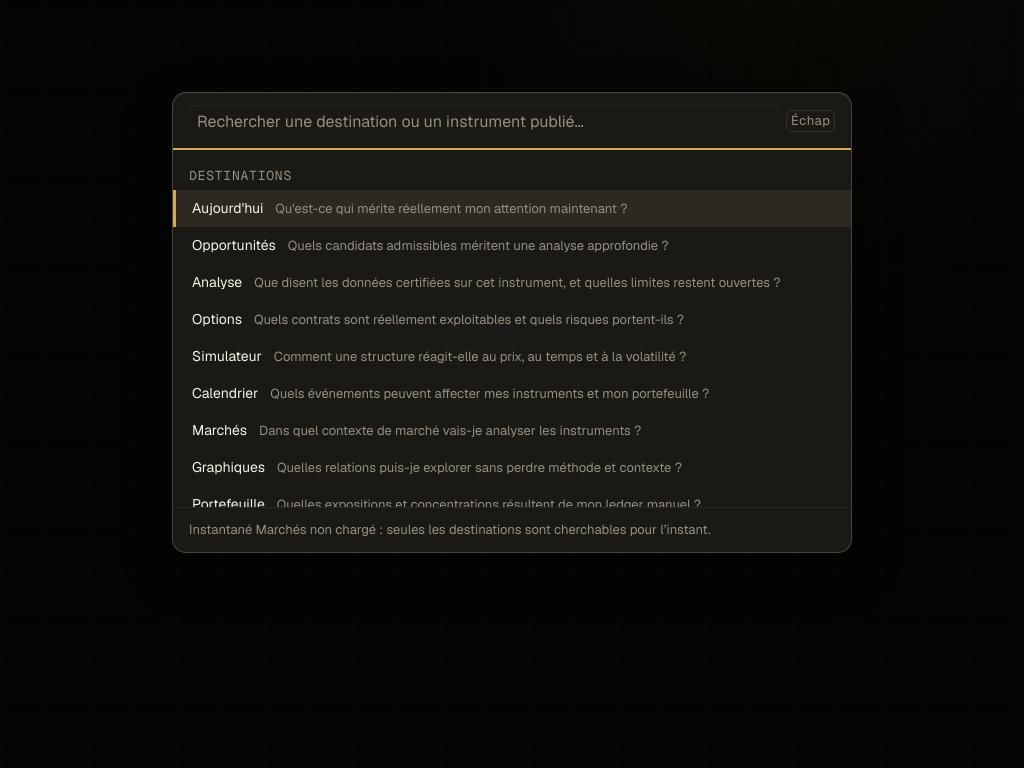
CommandPalette — recherche globale et navigation › DISTINGUE « aucun résultat » de « instantané non chargé »
The image size is (1024, 768).
Expected: the text "Instantané Marchés non chargé" is shown, [189, 522, 711, 538]
Expected: the text "Aucune destination ni instrument" is not shown
In the dropdown: (484, 121) [189, 105, 778, 137], type "zzzzz"
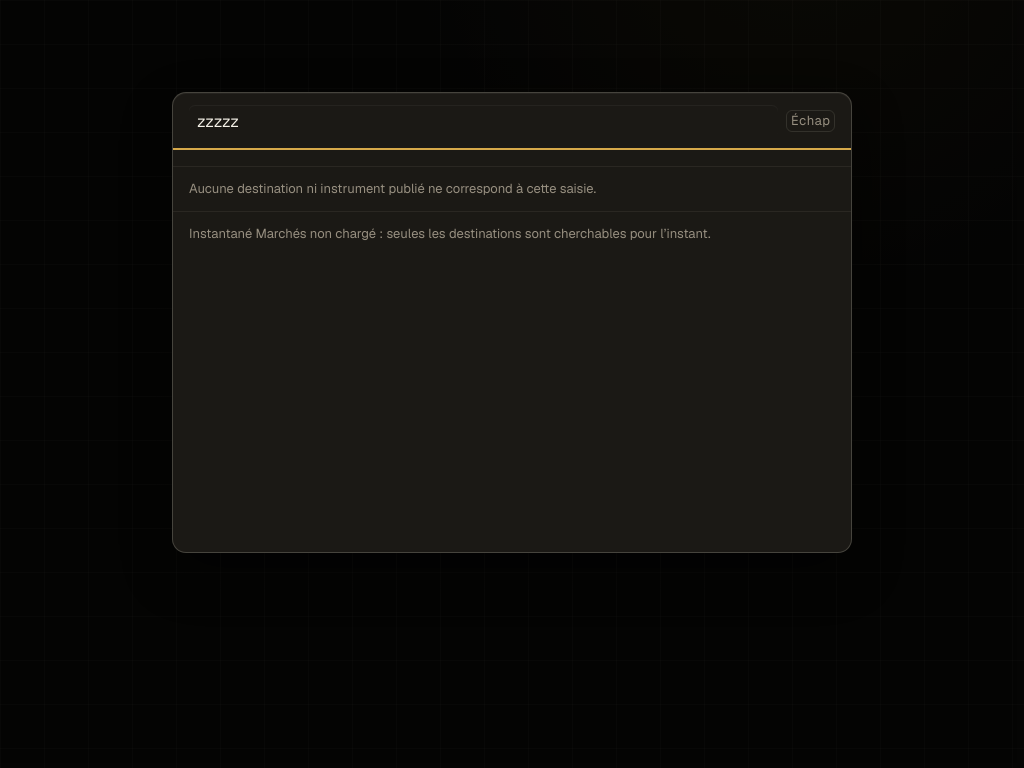
Expected: the text "Aucune destination ni instrument publié ne correspond à cette saisie." is shown, [173, 166, 851, 211]
